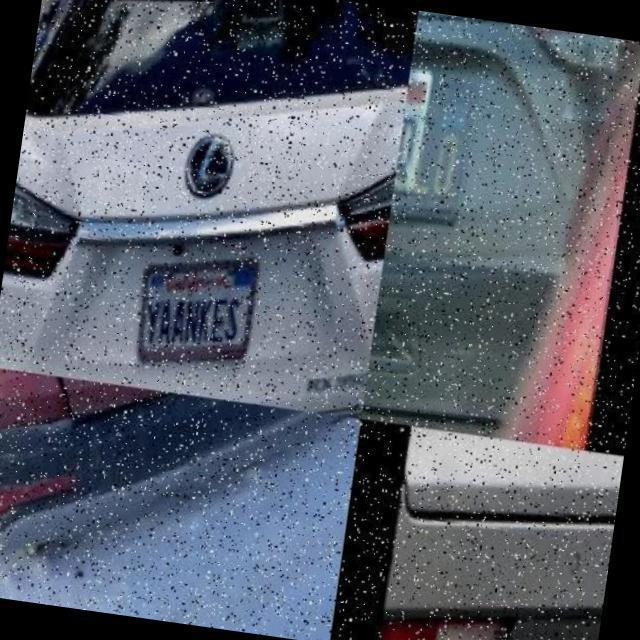License Plate: (133, 256, 275, 372), (392, 62, 488, 212)
